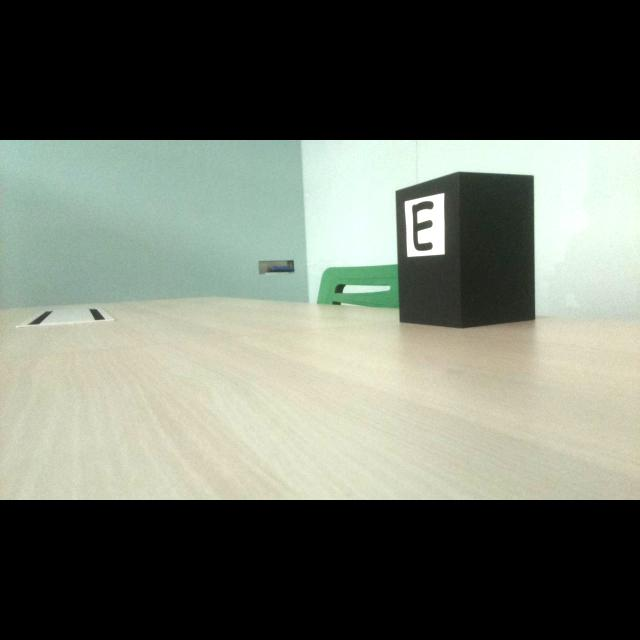E: (412, 201, 434, 251)
